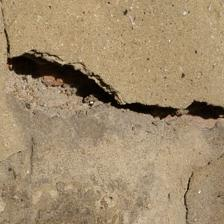Crack: (80, 55, 144, 167), (173, 7, 224, 80)
